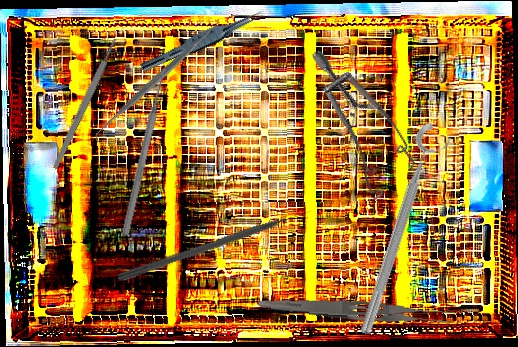Dressing Forceps: (257, 295, 456, 328)
Fixation Ring: (353, 119, 456, 341)
Pusher: (116, 207, 314, 284), (120, 65, 170, 236)
Scalpel Handle: (51, 37, 119, 171)
Spatula Surgical: (86, 16, 226, 145)
Speculum: (264, 48, 449, 213)
Tissue Forceps: (139, 3, 265, 80)
